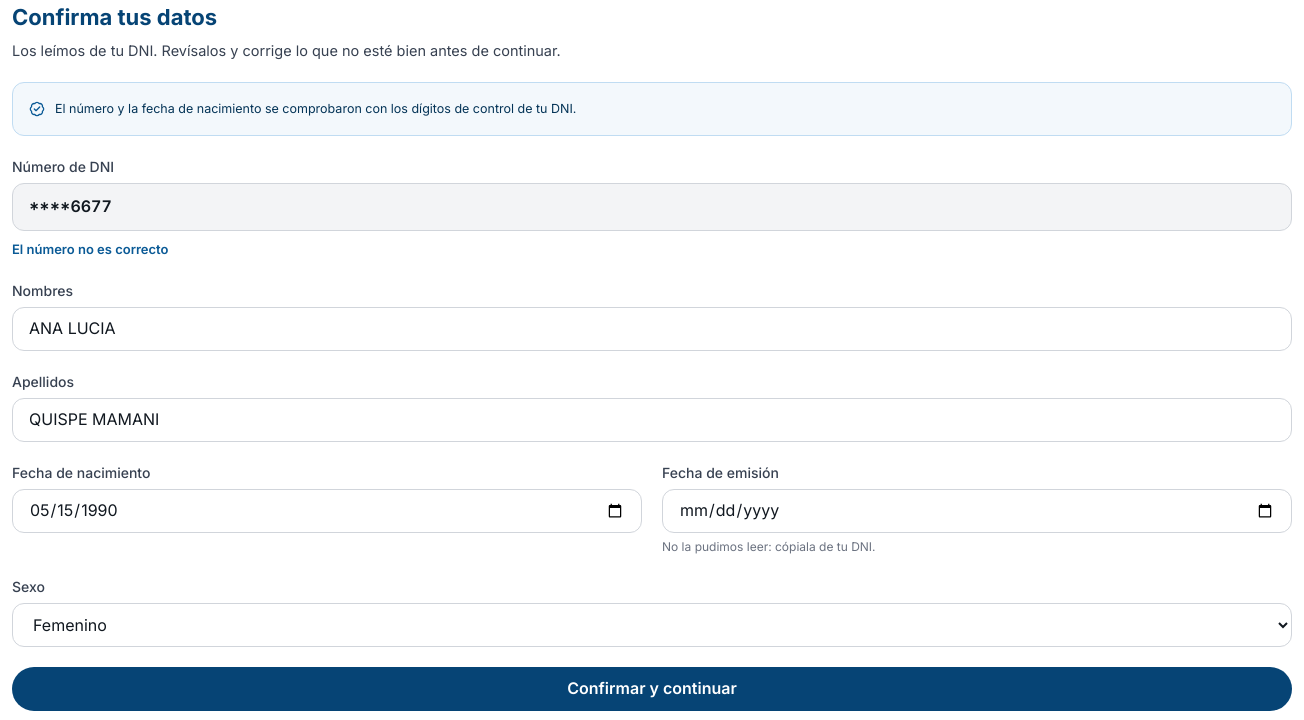
Test: ConfirmacionDeDatosDelDni › pide la fecha de emisión si el OCR no la encontró
The image size is (1304, 720).
Click the button "Confirmar y continuar": (652, 689) [12, 667, 1292, 711]
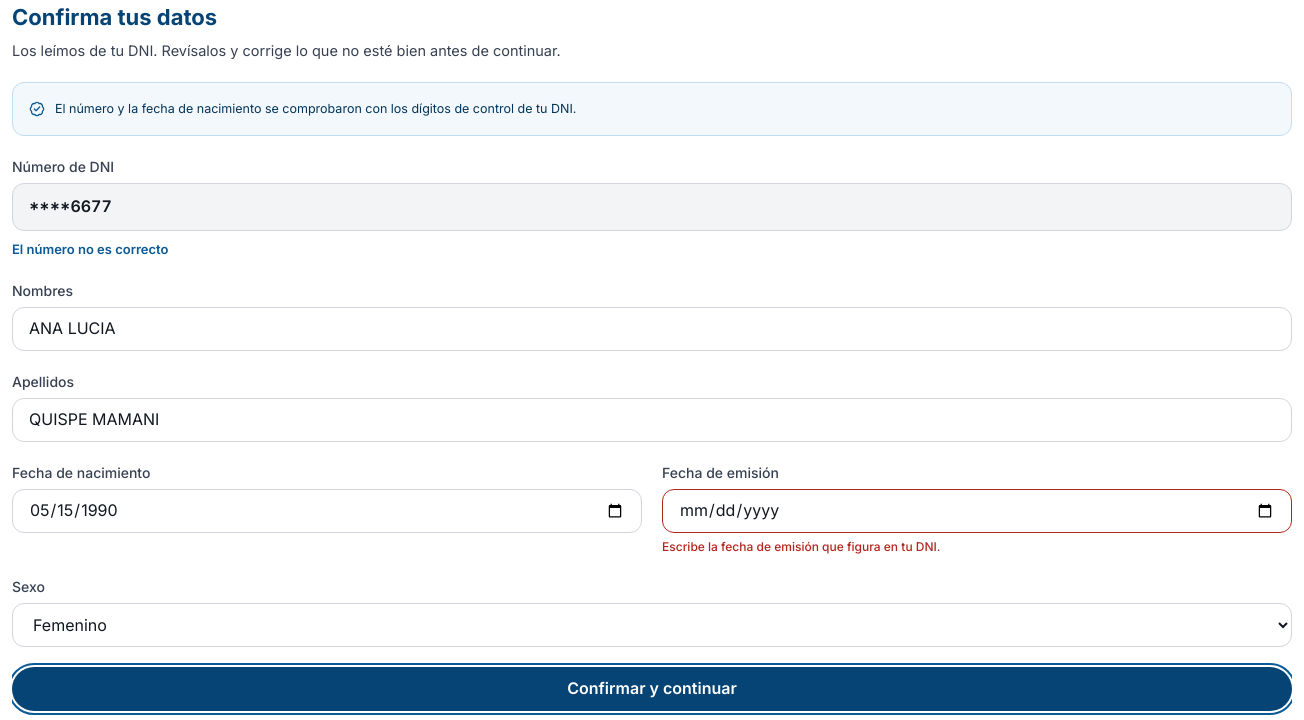
expect the message shows "fecha de emisión": met, box [662, 539, 940, 554]
